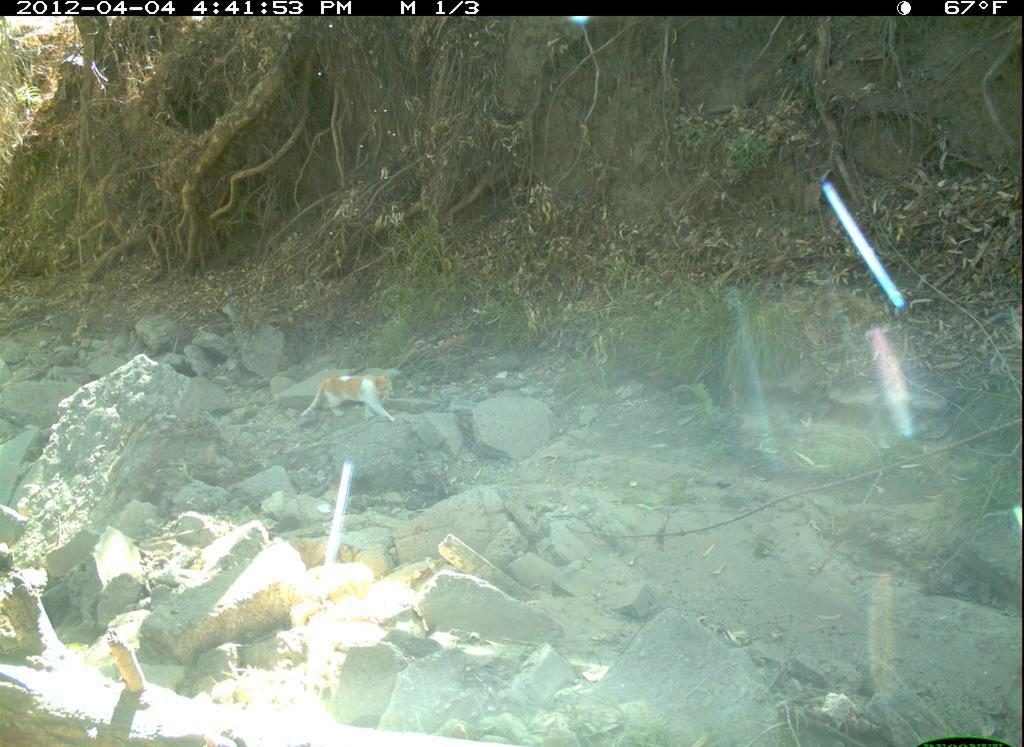cat: (303, 369, 405, 429)
